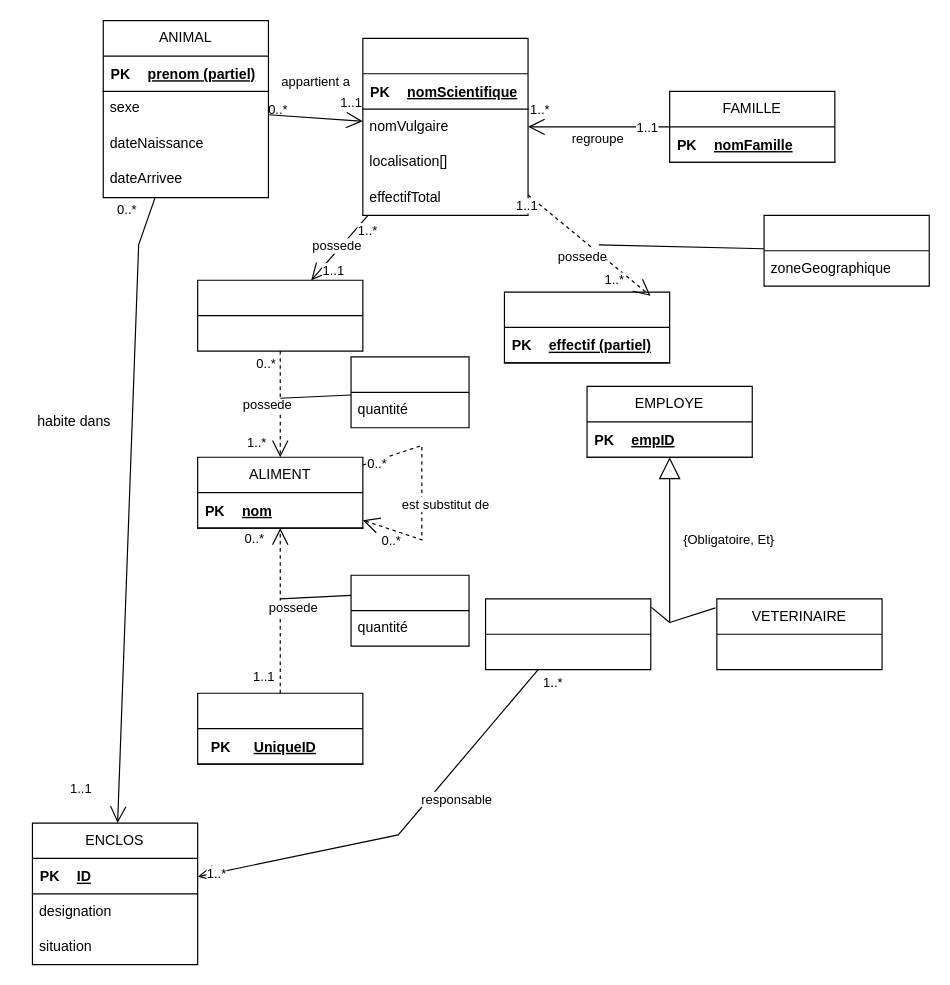
Image size: 950x985. Some labels were removed from this diagram. The box of each missing label's shape, as (x1, y1, x2, y2) in pixels:
BESOINS ALIMENTAIRES: (196, 279, 363, 351)
CATALOGUE: (196, 692, 363, 764)
ESPECE: (362, 37, 528, 215)
POPULATION: (503, 291, 670, 363)
RESPONSABLE ENCLOS: (484, 598, 651, 670)
